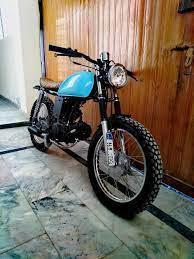bike: (27, 45, 164, 222)
